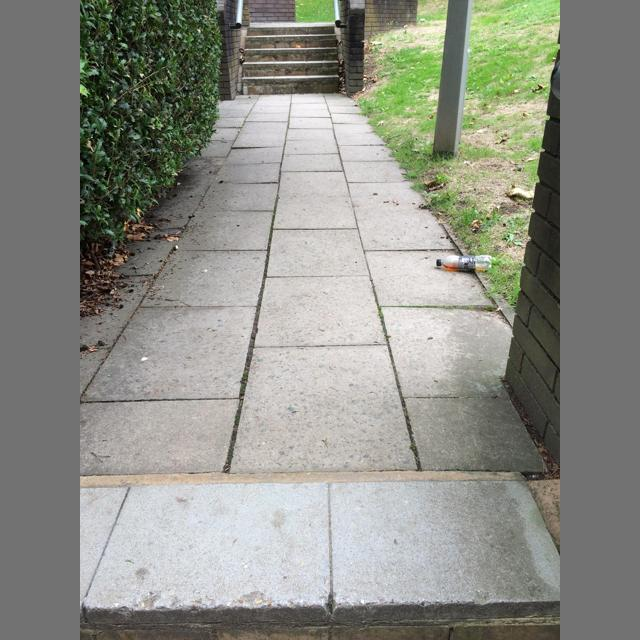litter: (436, 255, 492, 270), (436, 259, 440, 266), (175, 246, 178, 250)
